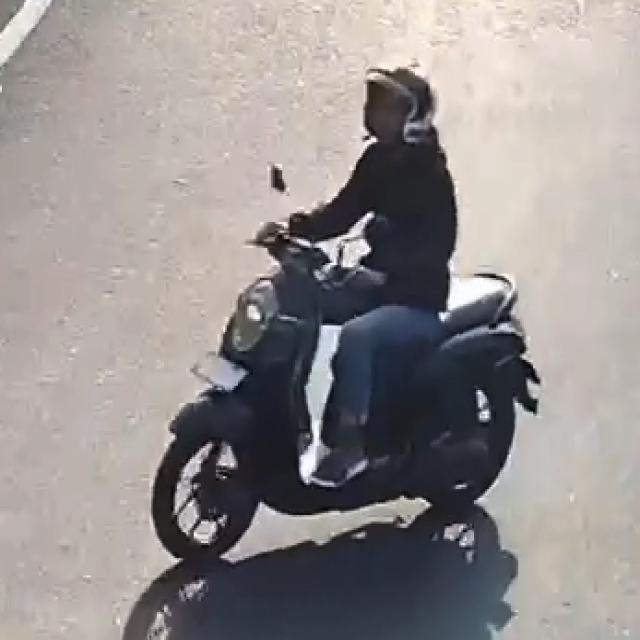helm: (348, 59, 452, 154)
motor: (150, 59, 544, 563)
spion: (330, 207, 404, 275), (255, 148, 295, 244)
